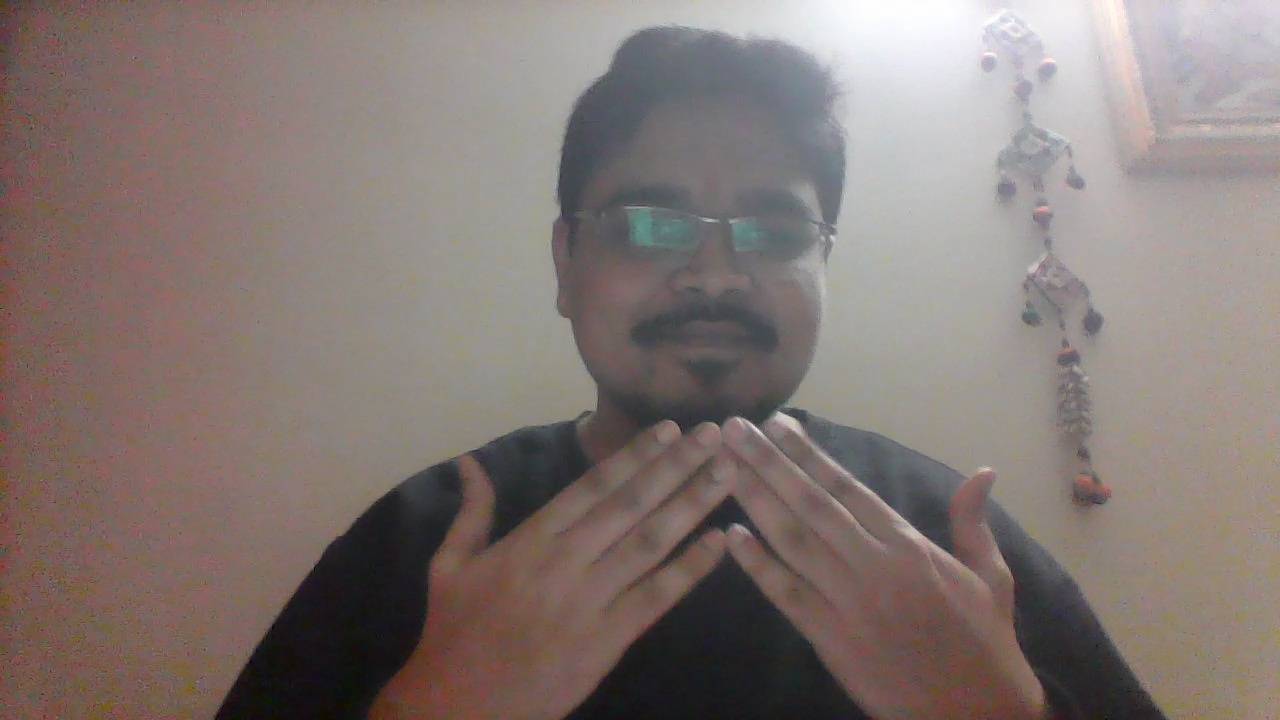Thanks: (409, 412, 1031, 720)
